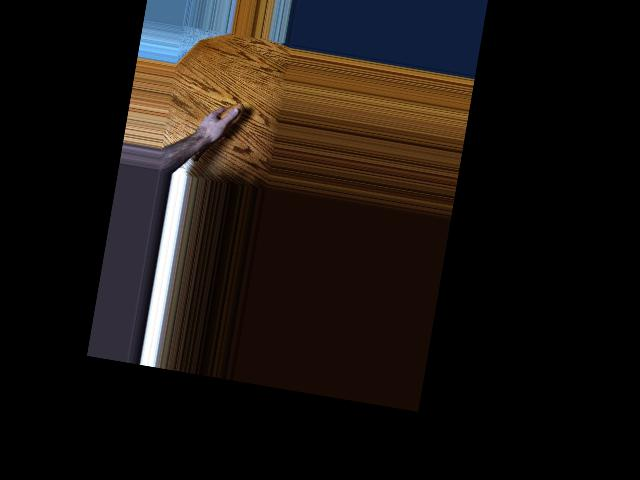sweet_potato: (189, 95, 244, 169)
